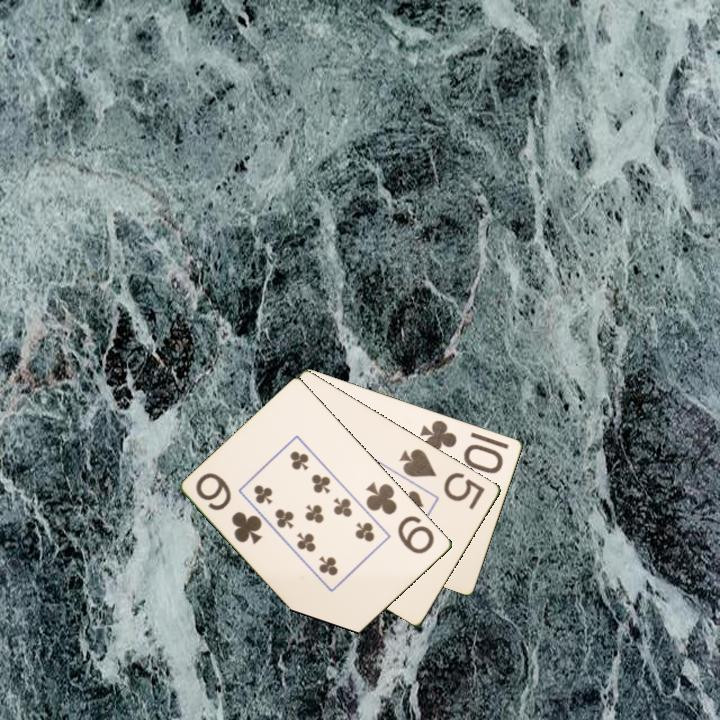10c: (417, 416, 506, 476)
5s: (396, 445, 488, 513)
9c: (362, 478, 438, 557), (192, 469, 265, 547)
